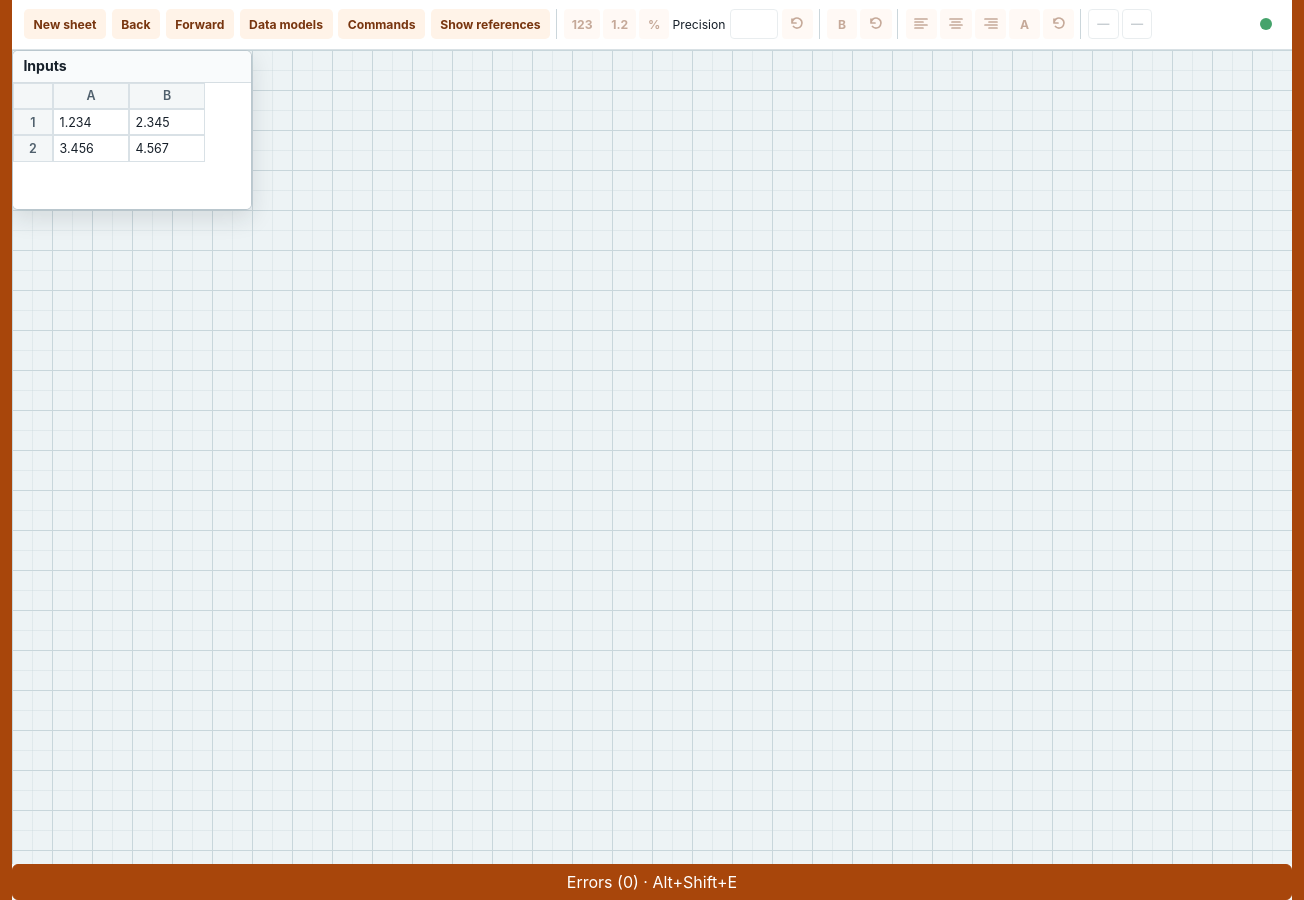
keeps a selected range through a real frame drag and formatting command
Click the cell named "Inputs A1 cell".
click(91, 122)  # box [53, 109, 129, 135]
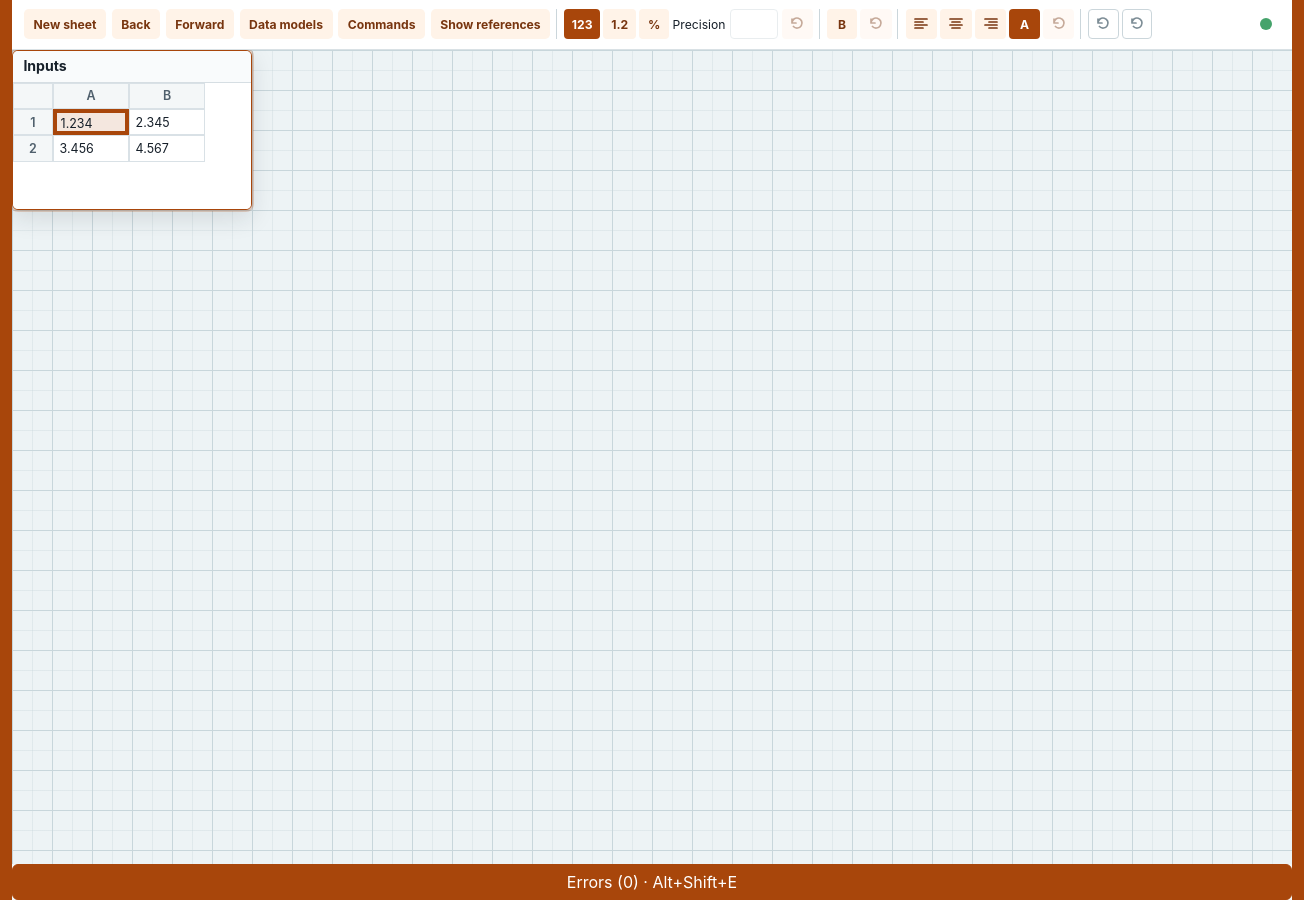
Click the cell named "Inputs B2 cell".
click(167, 149)  # box [129, 135, 205, 162]
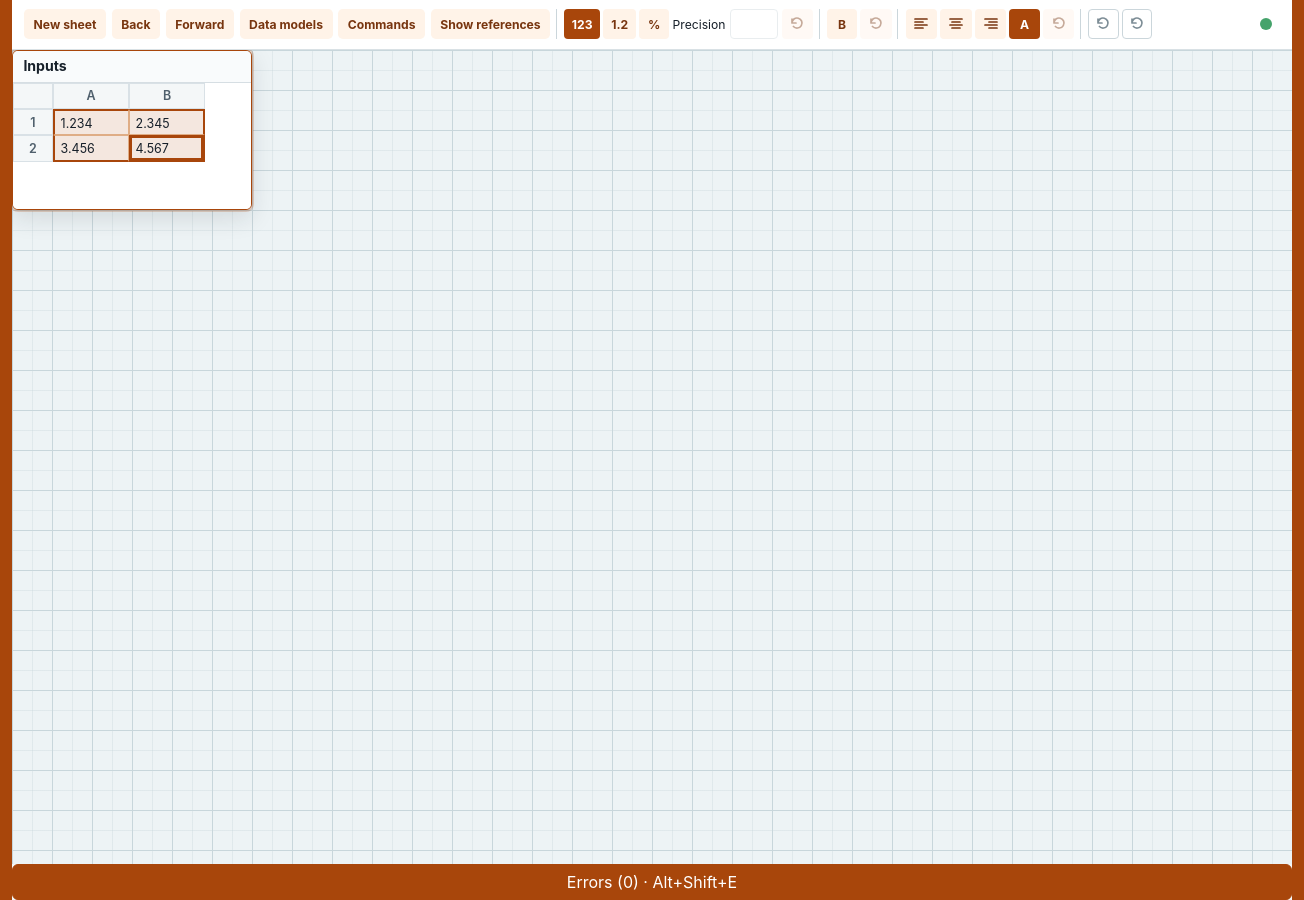
Press the mouse on the header with test id "sheet-frame-header" at [132, 67], box [13, 51, 251, 83]
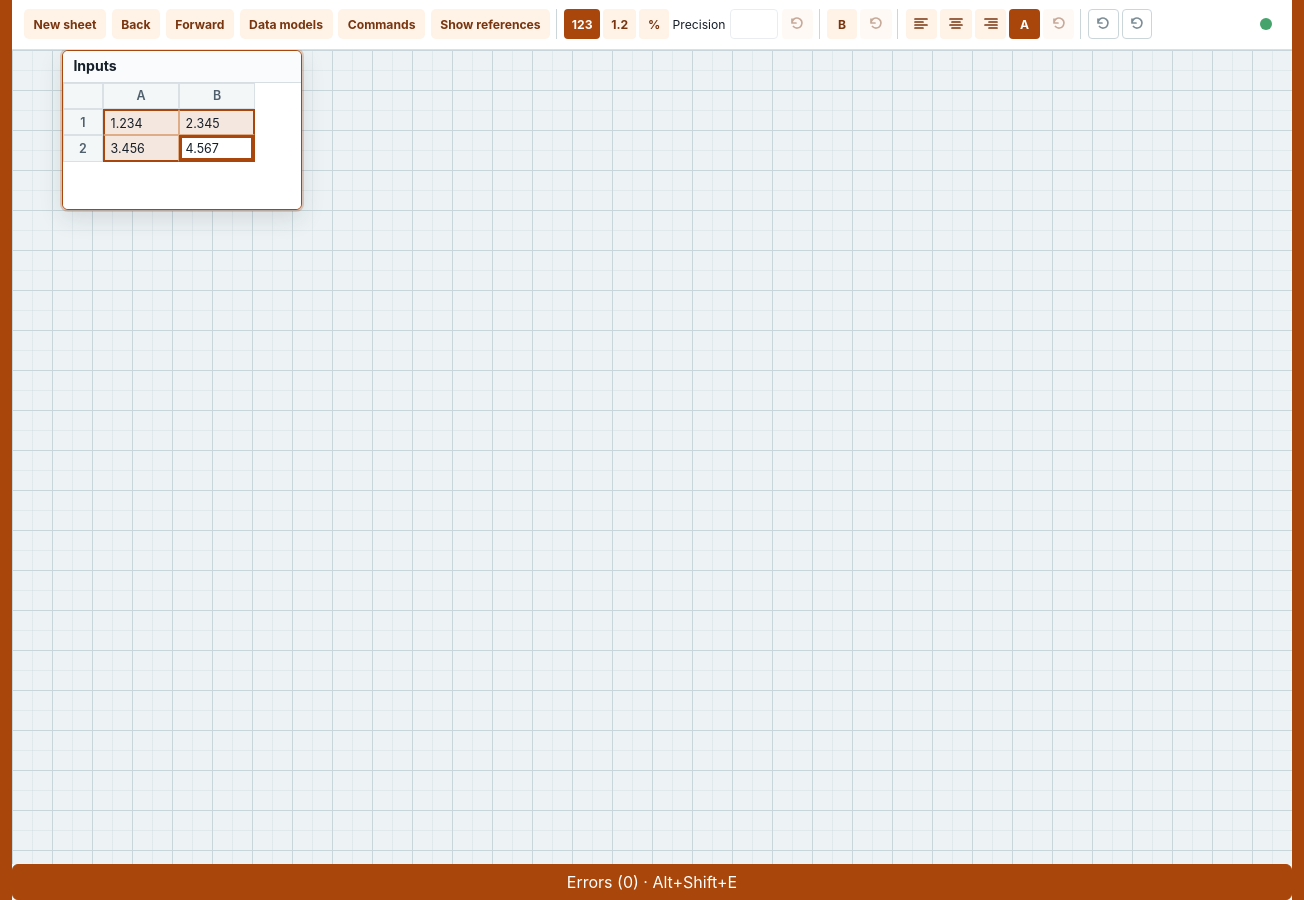
Now the element with test id "sheet-frame" has attribute data-position-x="50", box [62, 50, 302, 210]
Now the cell "1.234" is selected, box [103, 109, 179, 135]
Now the cell "2.345" is selected, box [179, 109, 255, 135]
Click the button named "Number format".
click(620, 24)  # box [603, 9, 636, 40]
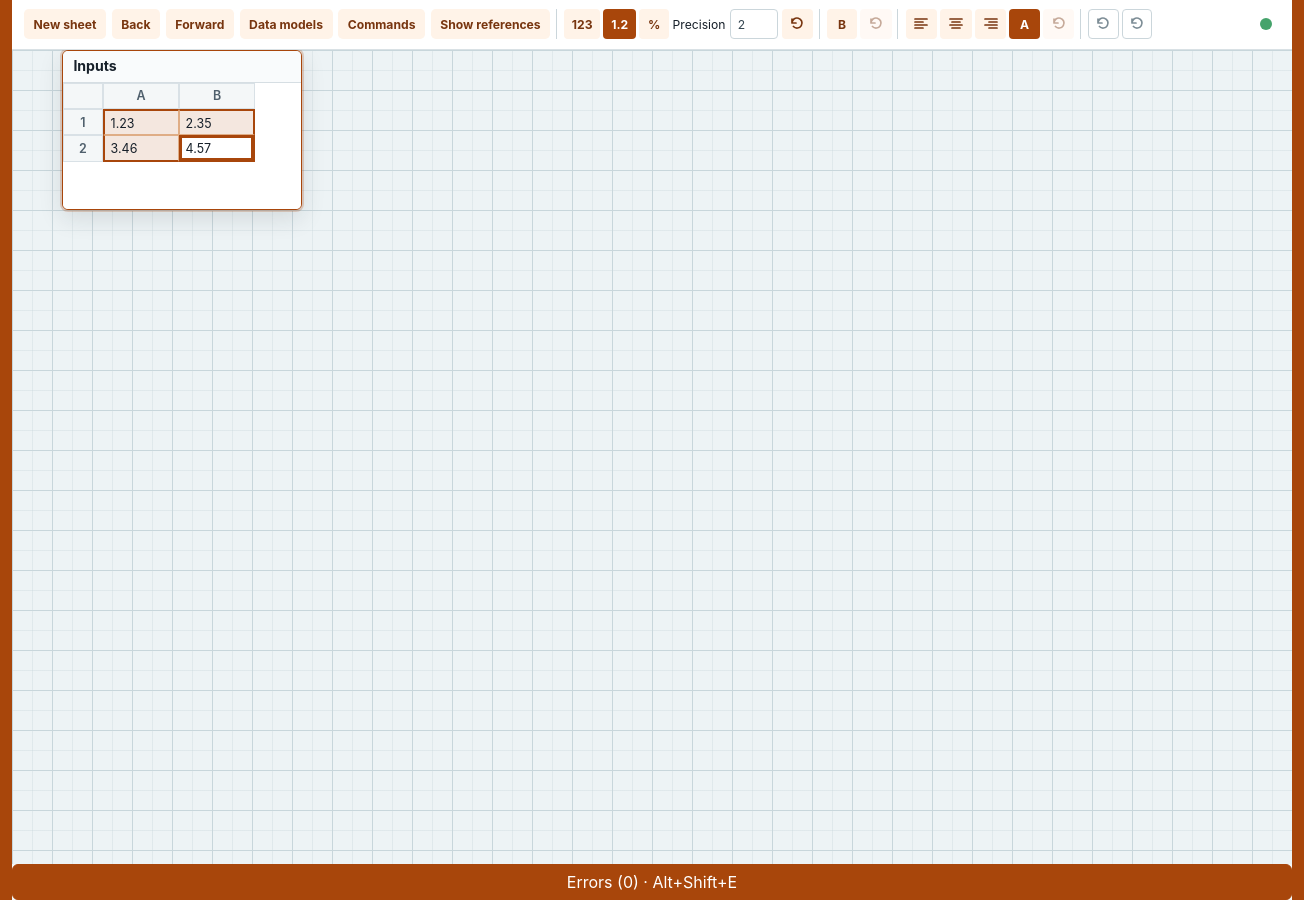
Expected: the cell named "Inputs A1 cell" reads "1.23", [111, 116, 135, 131]
Now the cell named "Inputs B2 cell" reads "4.57", box [186, 141, 211, 156]
